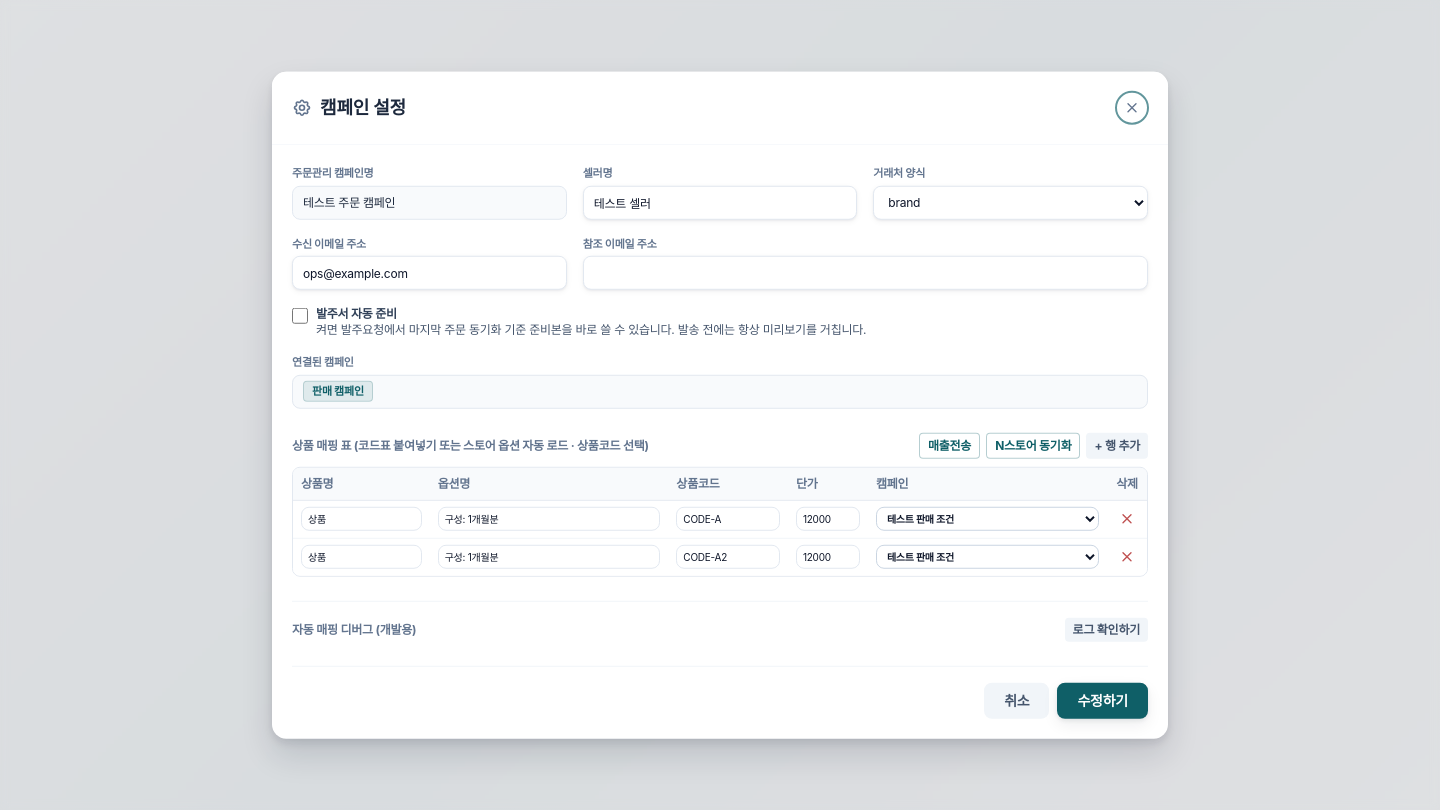
CampaignEditModal 스토어 옵션 다시 불러오기 › 같은 옵션 줄이 둘이면 첫 줄만 이어받고, 나머지는 지우지 않고 중복으로 표시한다
The image size is (1440, 810).
Click the button "N스토어 동기화".
click(1033, 445)  # box [986,432,1080,458]
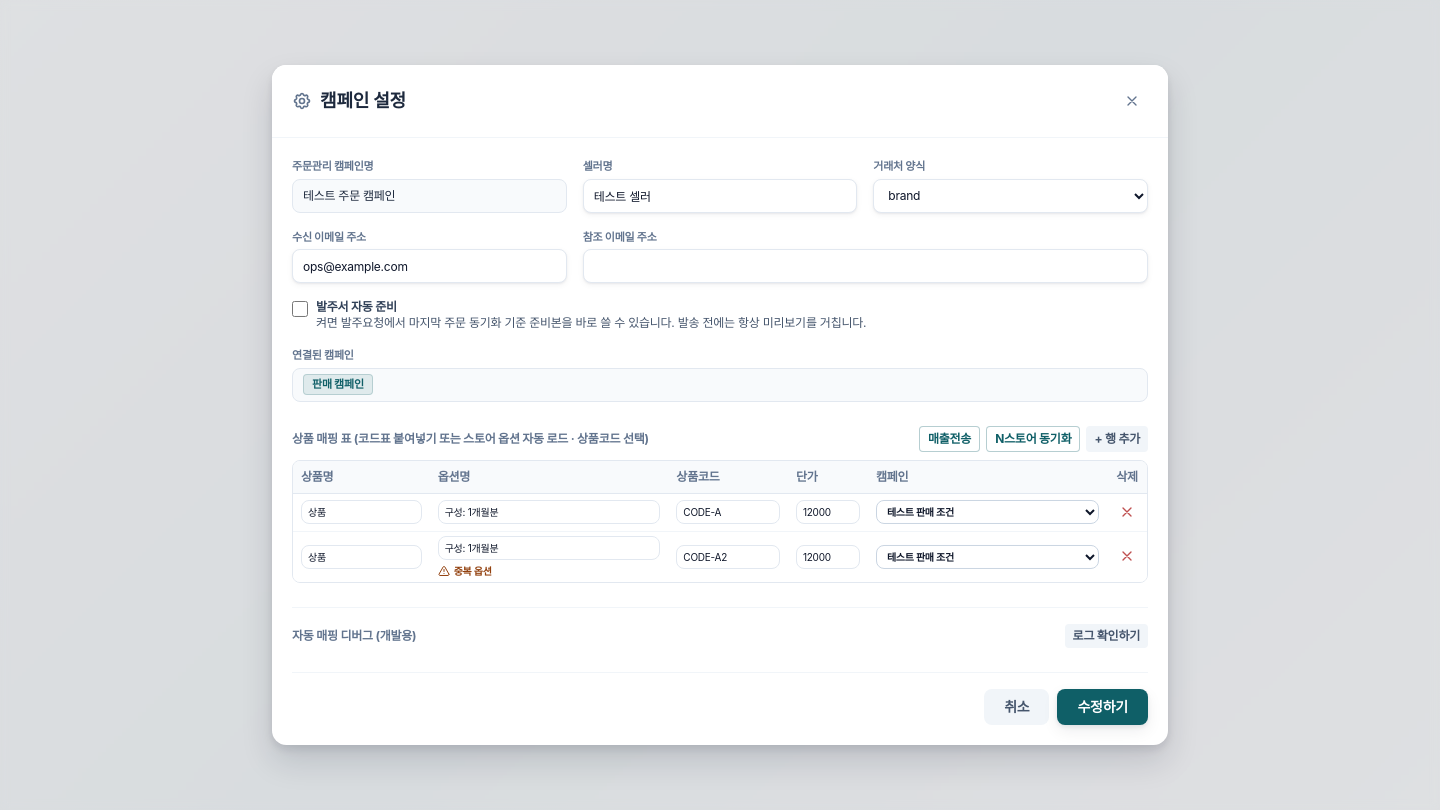
Check: the field showing "CODE-A" is shown, box [676,500,780,524]
Check: the text "중복 옵션" is shown, box [438,565,492,577]
